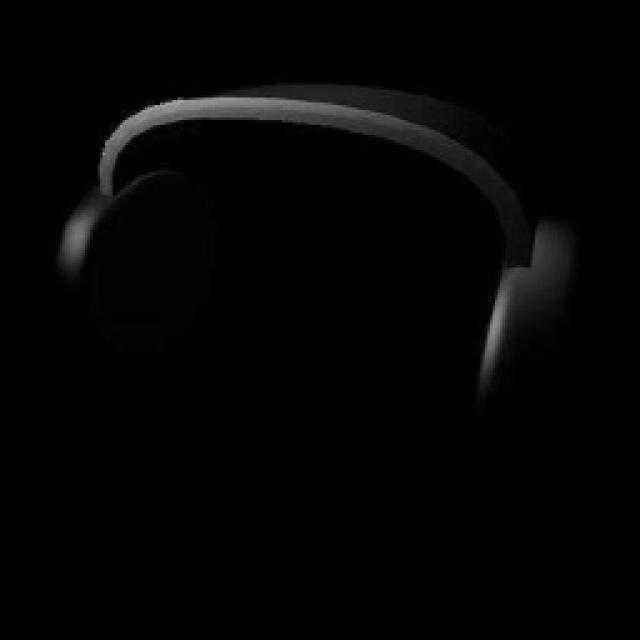headphones: (52, 80, 578, 428)
